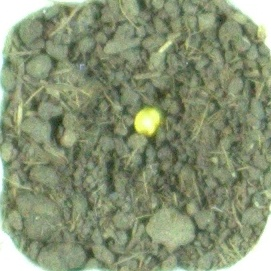pepper seed: (50, 36, 214, 174)
